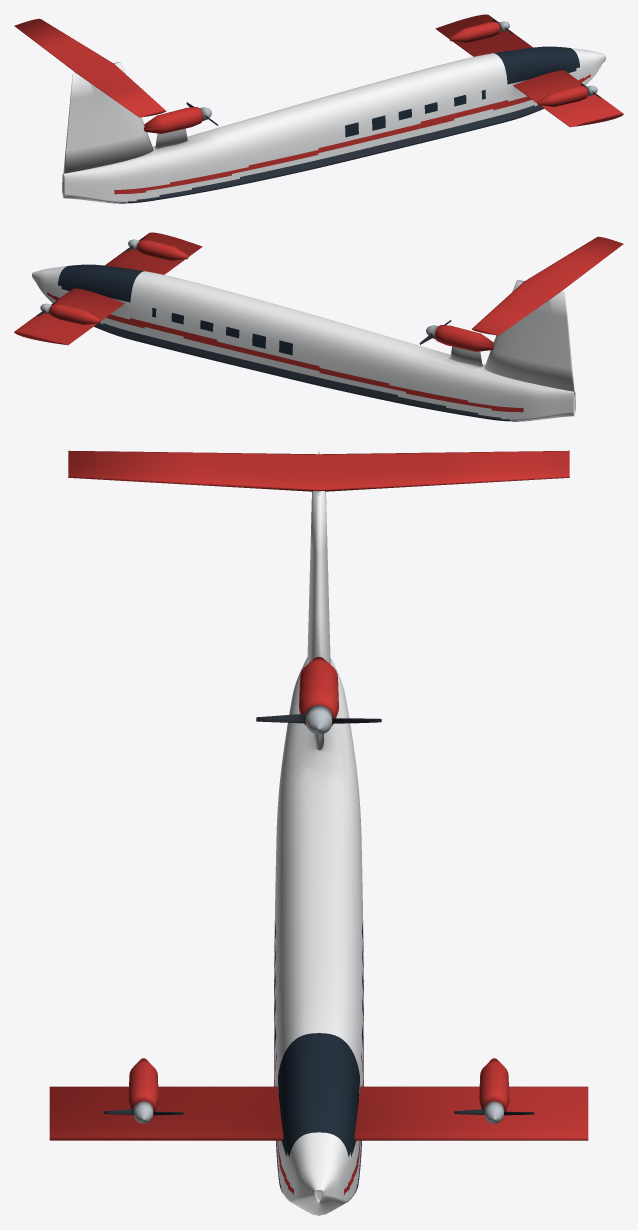
The model's file is oros.glb.
3 views of the same model, one above another, from view 1: azimuth 30°, elevation 25°; view 2: azimuth 150°, elevation 25°; view 3: azimuth 270°, elevation 25° (orthographic). The views are drawn at different scales.
Parts seen in each view (by area): view 1: hull, fin, canard, stab, nac_t, nac1, nac-1, pylon_t; view 2: hull, fin, canard, stab, nac_t, nac-1, nac1, pylon_t; view 3: hull, canard, stab, fin, nac_t, nac1, nac-1.
Boxes of the visible parts, <box> form: hull: <box>62,46,605,203</box>; fin: <box>63,62,153,176</box>; canard: <box>435,14,623,127</box>; stab: <box>14,18,165,117</box>; nac_t: <box>143,107,202,133</box>; nac1: <box>537,86,588,106</box>; nac-1: <box>449,22,500,42</box>; pylon_t: <box>155,128,187,148</box>; hull: <box>32,264,575,421</box>; fin: <box>484,280,574,394</box>; canard: <box>14,232,202,345</box>; stab: <box>472,236,623,335</box>; nac_t: <box>435,325,494,351</box>; nac-1: <box>49,304,100,324</box>; nac1: <box>137,240,188,260</box>; pylon_t: <box>450,346,482,366</box>; hull: <box>274,657,363,1215</box>; canard: <box>49,1086,588,1140</box>; stab: <box>68,450,569,491</box>; fin: <box>307,451,330,663</box>; nac_t: <box>299,657,338,725</box>; nac1: <box>128,1058,158,1111</box>; nac-1: <box>479,1058,509,1111</box>.
Bounding box in the file's own units: 0.9993 × 0.2689 × 0.43.
